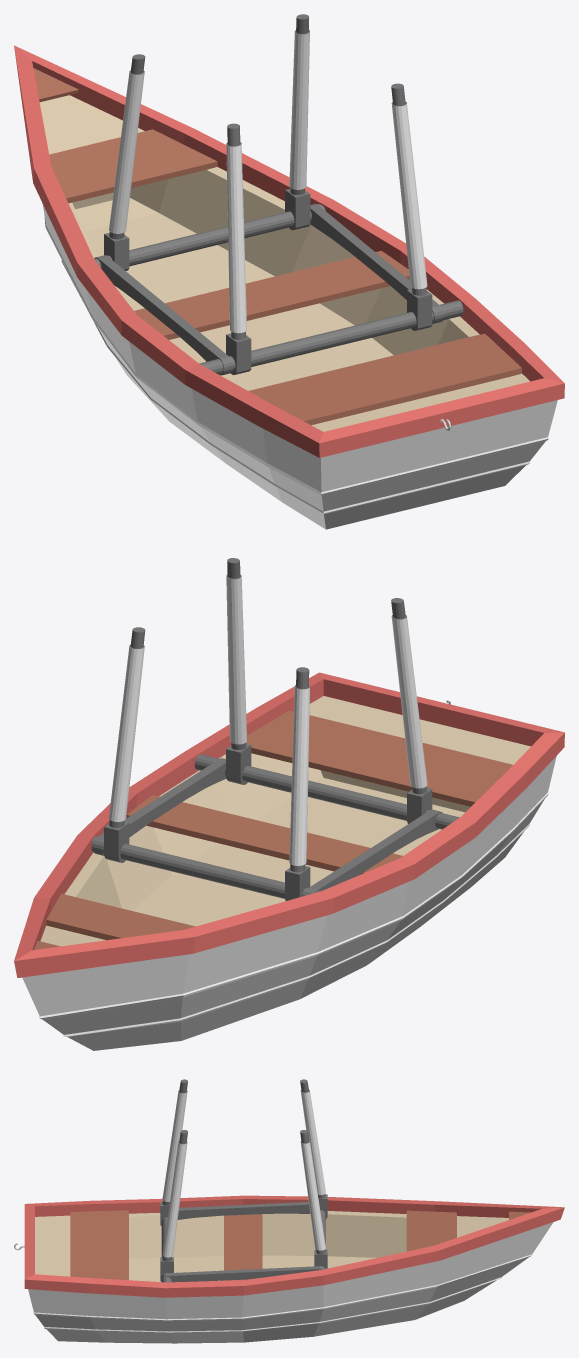
File: Boat.fbx
The picture shows the model from 3 angles, top to bottom: view 1: azimuth 30°, elevation 25°; view 2: azimuth 150°, elevation 25°; view 3: azimuth 270°, elevation 25°; orthographic projection. The views are drawn at different scales.
Visible parts, largest first — view 1: RowBoat; view 2: RowBoat; view 3: RowBoat.
Part boxes in pixels (<box>): RowBoat: <box>14,14,564,529</box>; RowBoat: <box>14,558,564,1050</box>; RowBoat: <box>14,1079,564,1343</box>.
Bounding box in the file's own units: 273 × 296 × 705.
